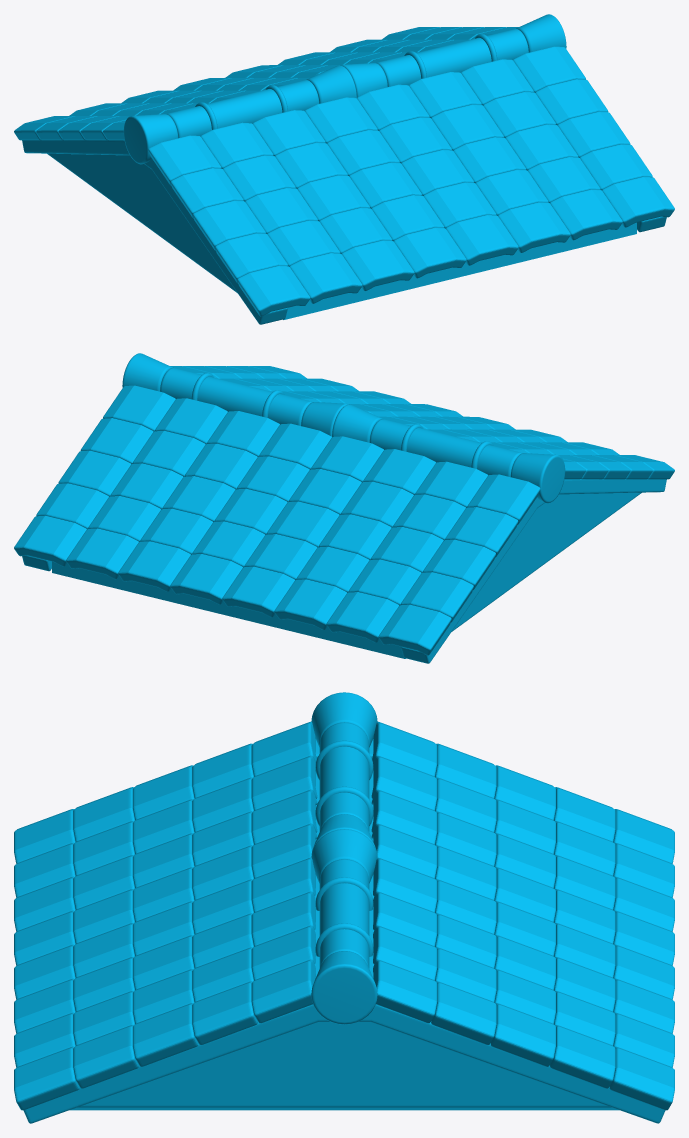
The model's file is SM_Wood_Roof_02.fbx.
The picture shows the model from 3 angles, top to bottom: view 1: azimuth 30°, elevation 25°; view 2: azimuth 150°, elevation 25°; view 3: azimuth 270°, elevation 25°; orthographic projection. The views are drawn at different scales.
Visible parts, largest first — view 1: SM_Wood_Roof_02; view 2: SM_Wood_Roof_02; view 3: SM_Wood_Roof_02.
Part boxes in pixels (x1=…): SM_Wood_Roof_02: x1=14, y1=14, x2=674, y2=324; SM_Wood_Roof_02: x1=14, y1=353, x2=674, y2=663; SM_Wood_Roof_02: x1=14, y1=692, x2=674, y2=1123.
Bounding box in the file's own units: 5 × 1.42 × 5.11.
